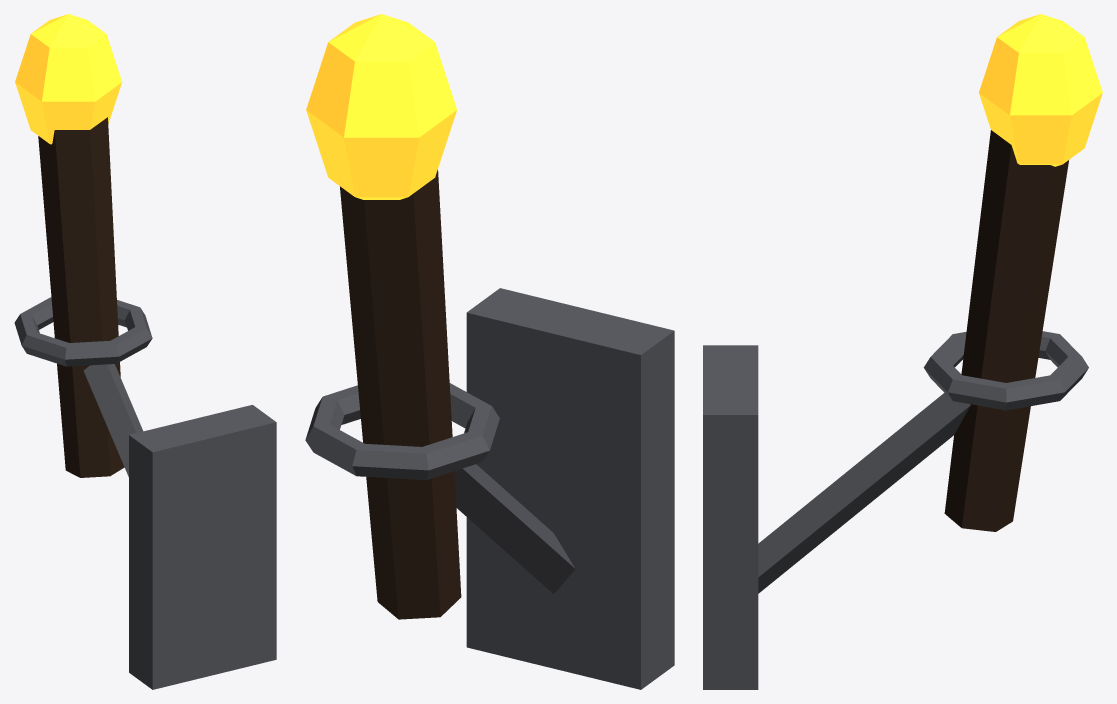
The model's file is torch.glb.
The picture shows the model from 3 angles, left to right: view 1: azimuth 30°, elevation 25°; view 2: azimuth 150°, elevation 25°; view 3: azimuth 270°, elevation 25°; orthographic projection. The views are drawn at different scales.
Visible parts, largest first — view 1: torch; view 2: torch; view 3: torch.
Boxes of the visible parts, bbox=[...] form: torch: bbox=[14, 14, 276, 689]; torch: bbox=[305, 14, 674, 689]; torch: bbox=[703, 14, 1102, 689].
Size of the model in its own units: 0.12 by 0.513 by 0.29.
